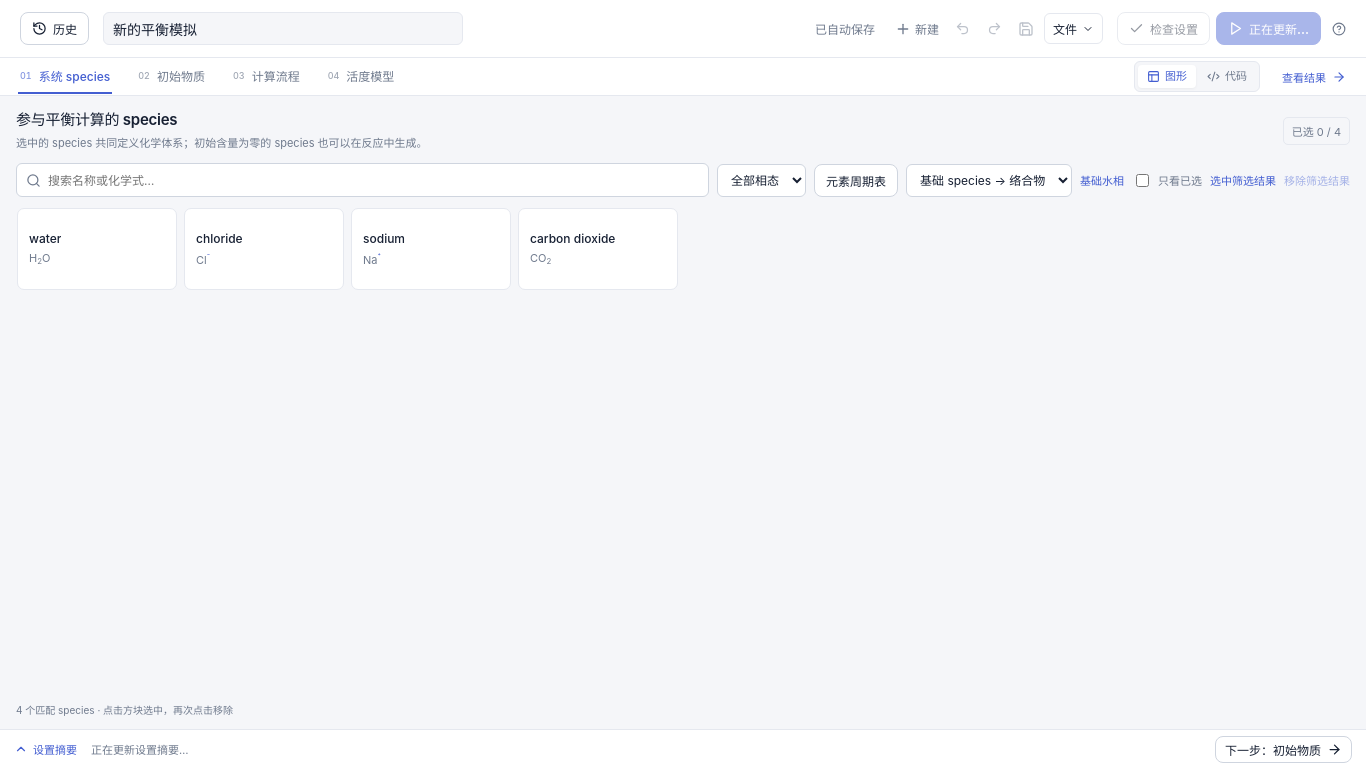
Test: equilibrium workbench › shows a real backend failure
The width and height of the screenshot is (1366, 768).
Click the button with aria-label "参与平衡 water" at x=97, y=249, box [17, 208, 177, 290]
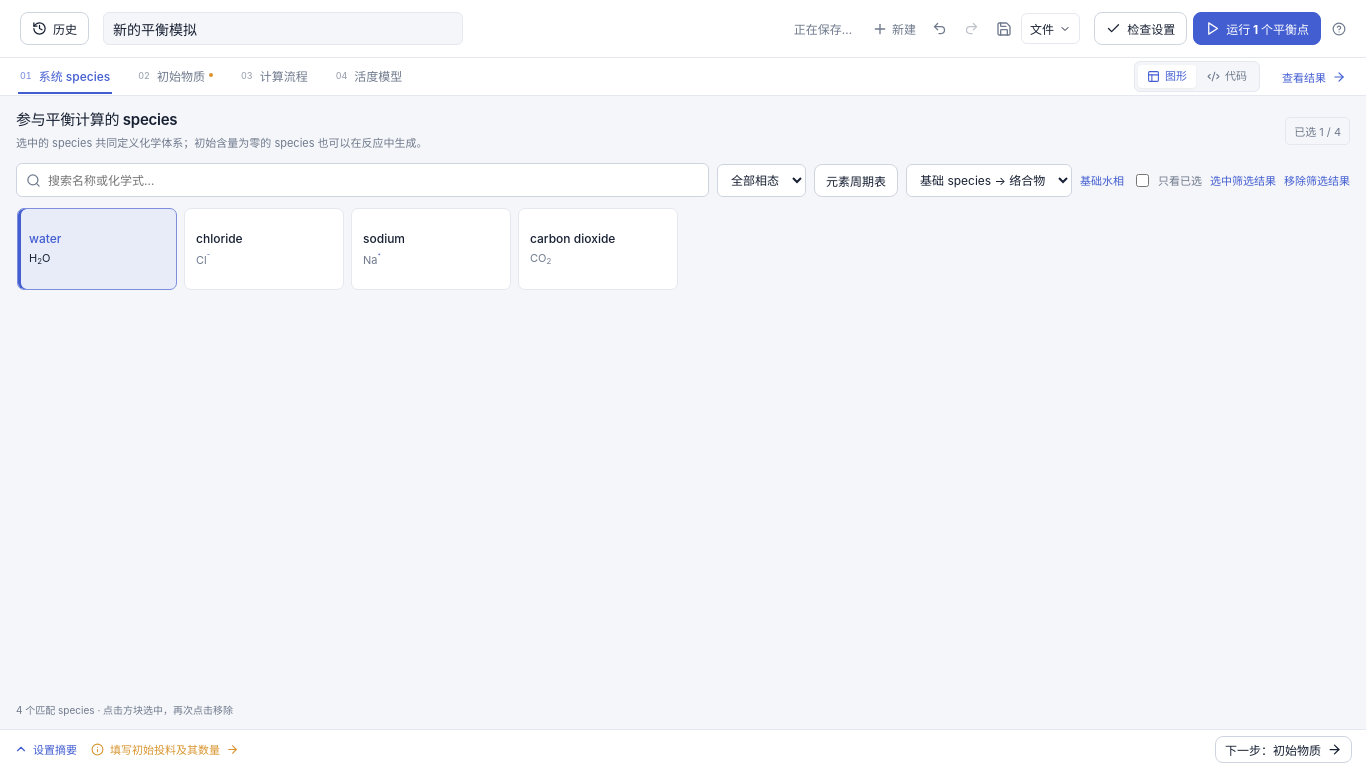
Click the tab "02 初始物质" at x=176, y=76, box [136, 58, 215, 94]
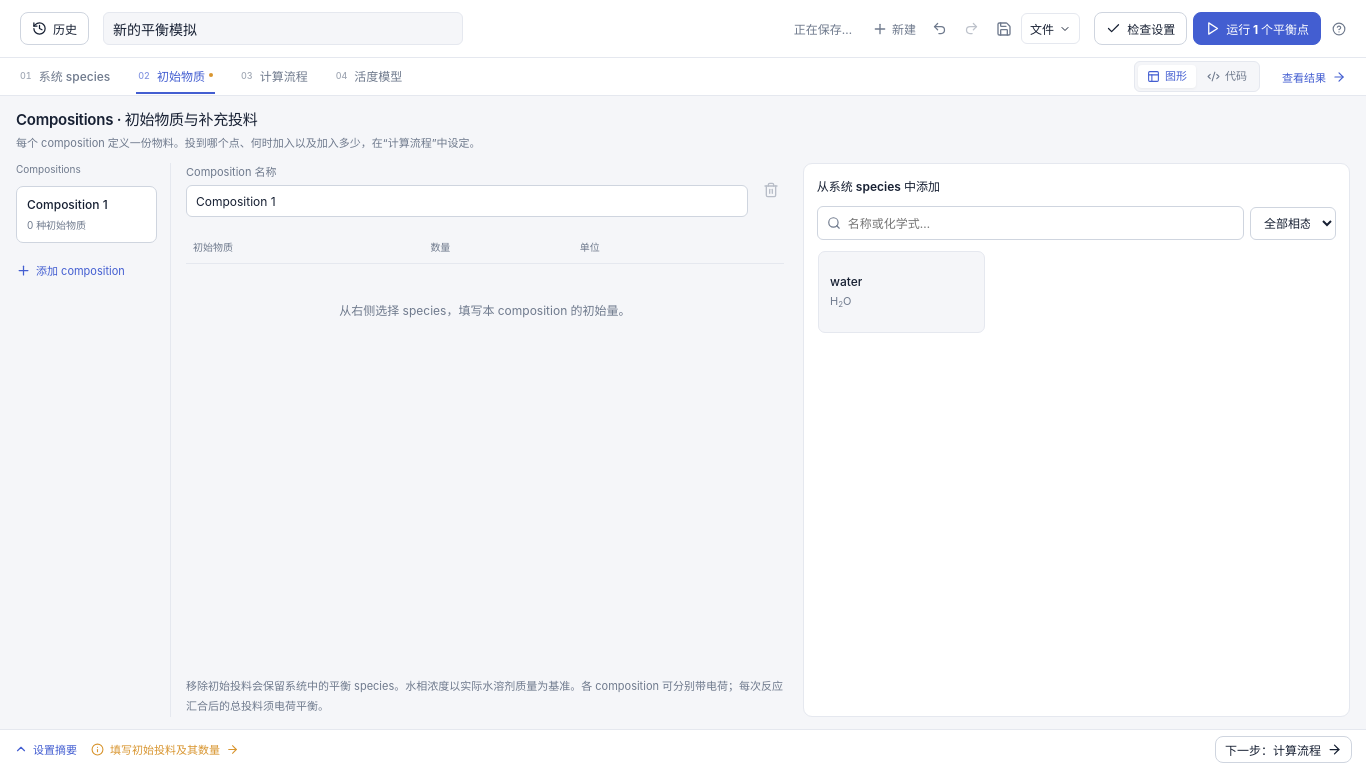
Click the button with aria-label "添加投料 water" at x=901, y=292, box [818, 251, 984, 333]
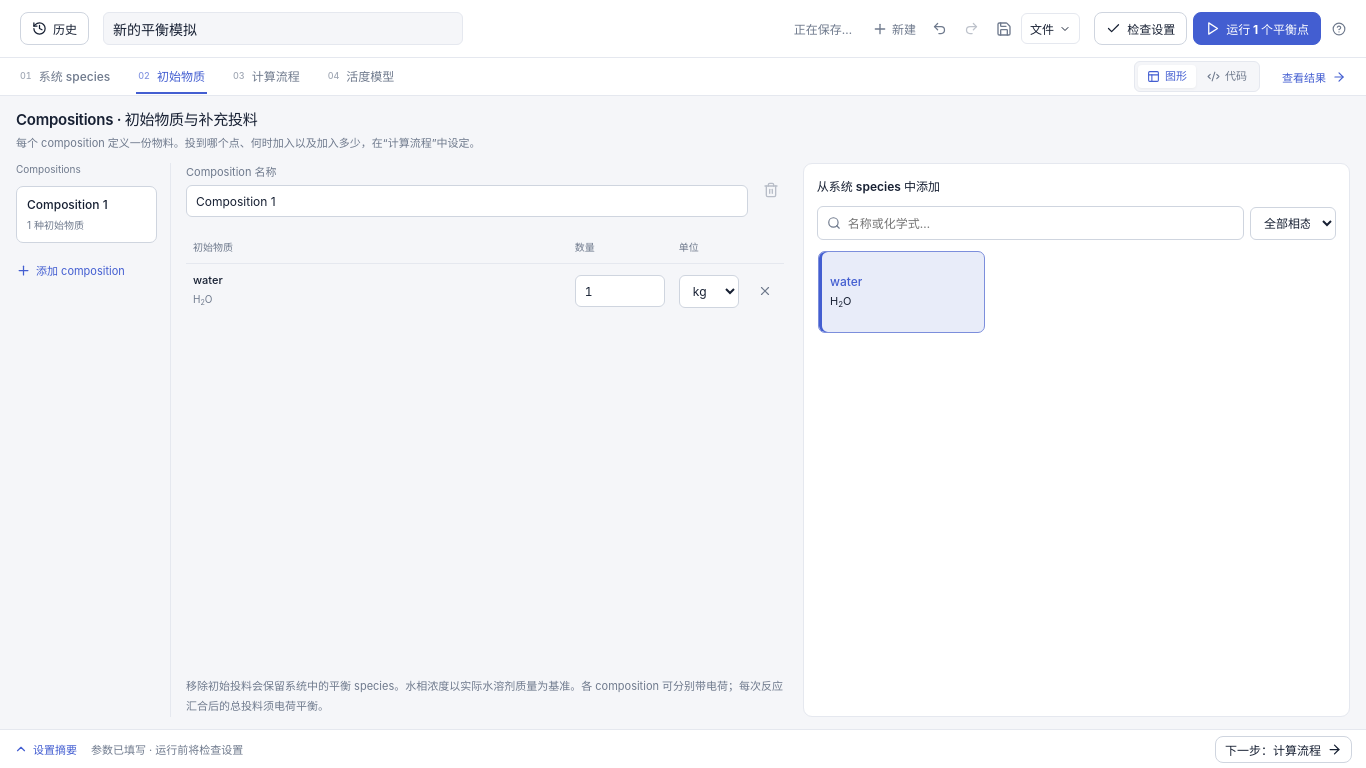
Click the button "运行 1 个平衡点" at x=1257, y=28, box [1193, 12, 1321, 45]
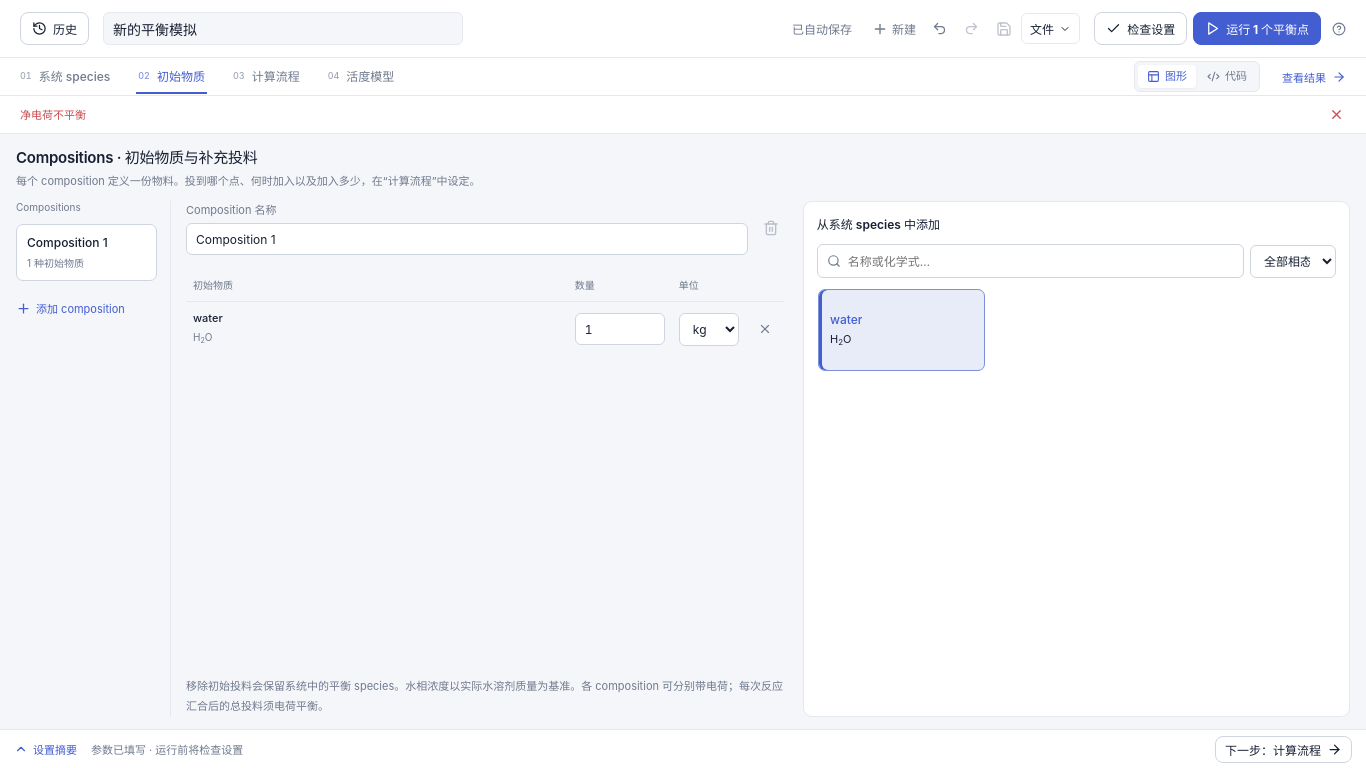
Check: the text "净电荷不平衡" is shown, box [20, 106, 86, 124]
